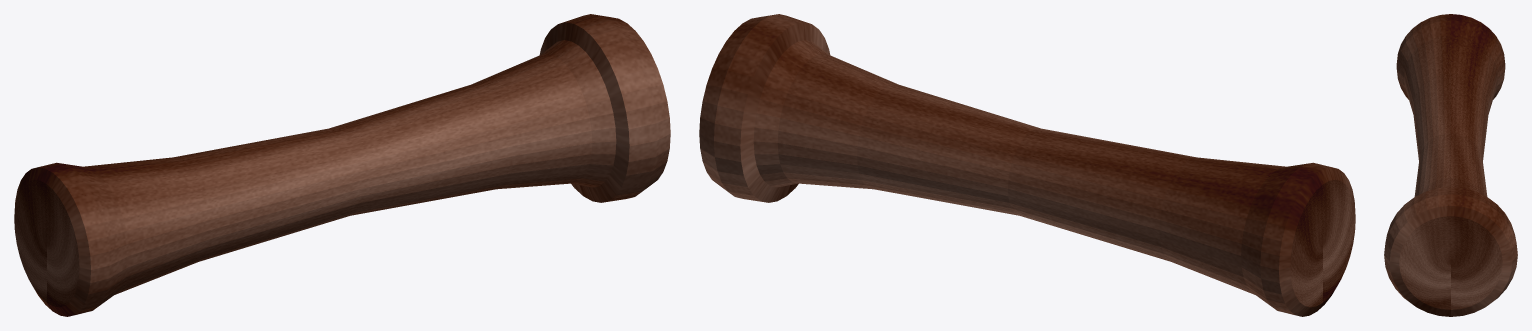
File: handle.obj
3 renders of one model, left to right at view 1: azimuth 30°, elevation 25°; view 2: azimuth 150°, elevation 25°; view 3: azimuth 270°, elevation 25°, orthographic. The views are drawn at different scales.
Visible parts, largest first — view 1: handle; view 2: handle; view 3: handle.
Boxes of the visible parts, x1,y1,x2,y2 form: handle: (14,14,670,316); handle: (699,14,1355,316); handle: (1384,14,1517,316).
Size of the model in its own units: 108 by 30.24 by 30.24.
Materials: 1 (1 with a texture image).
